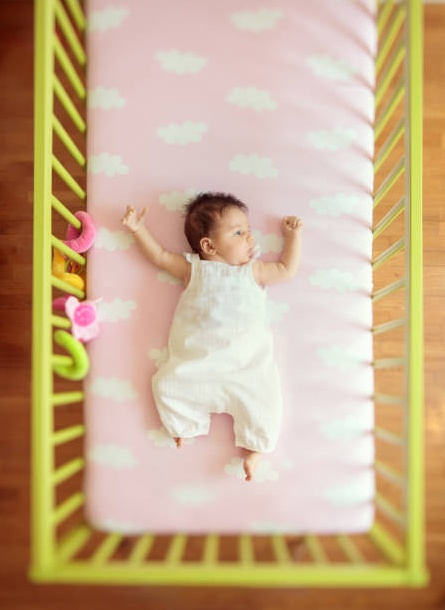baby: (122, 193, 301, 479)
crib: (31, 0, 426, 585)
